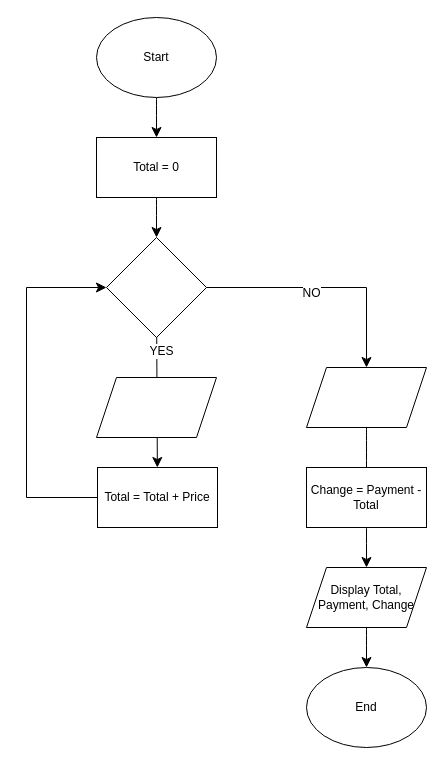
Image size: 444x765. Some labels were removed from this diagram. Each missing label, with the centre of its shape:
"For i = 1 To 3" goes at (156,287).
"Input Payment" goes at (366,397).
"Input Price" goes at (156,407).
